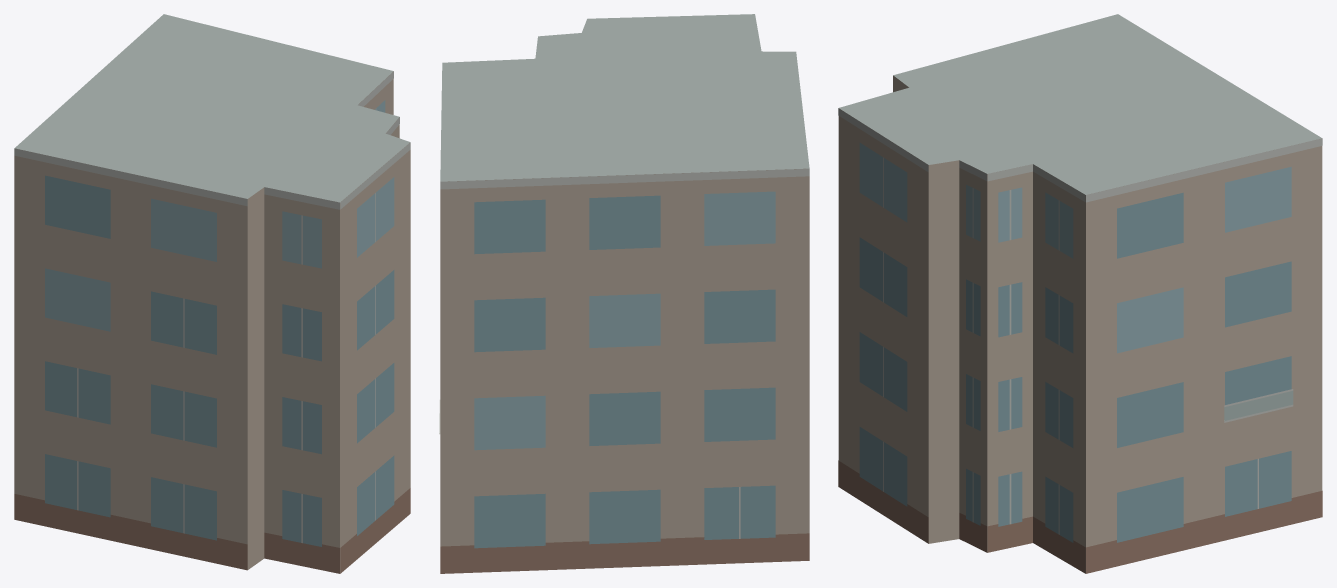
The model's file is survey-upis-32630664.glb.
The picture shows the model from 3 angles, left to right: view 1: azimuth 30°, elevation 25°; view 2: azimuth 150°, elevation 25°; view 3: azimuth 270°, elevation 25°; orthographic projection. The views are drawn at different scales.
Visible parts, largest first — view 1: survey-upis-32630664.tmp; view 2: survey-upis-32630664.tmp; view 3: survey-upis-32630664.tmp.
Part boxes in pixels (x1,y1,x2,y2): survey-upis-32630664.tmp: [14, 14, 410, 573]; survey-upis-32630664.tmp: [439, 14, 809, 573]; survey-upis-32630664.tmp: [838, 14, 1322, 573].
Bounding box in the file's own units: 12.61 × 12.3 × 14.25.
